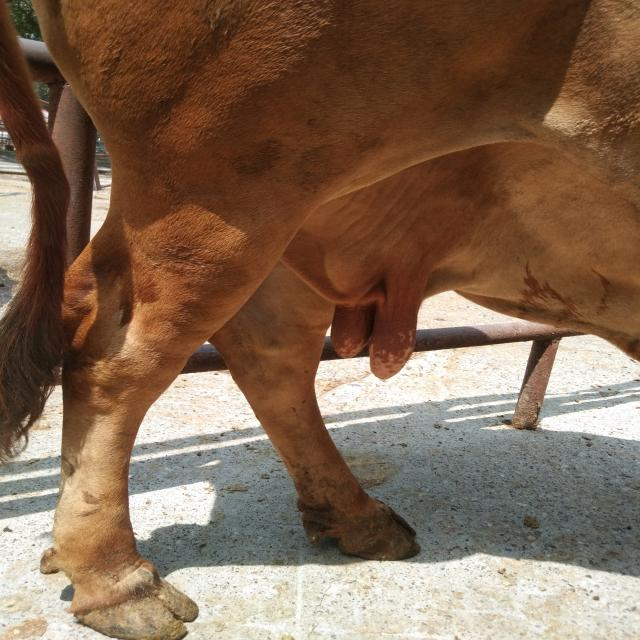Hoof: (67, 562, 199, 639), (296, 495, 421, 561)
